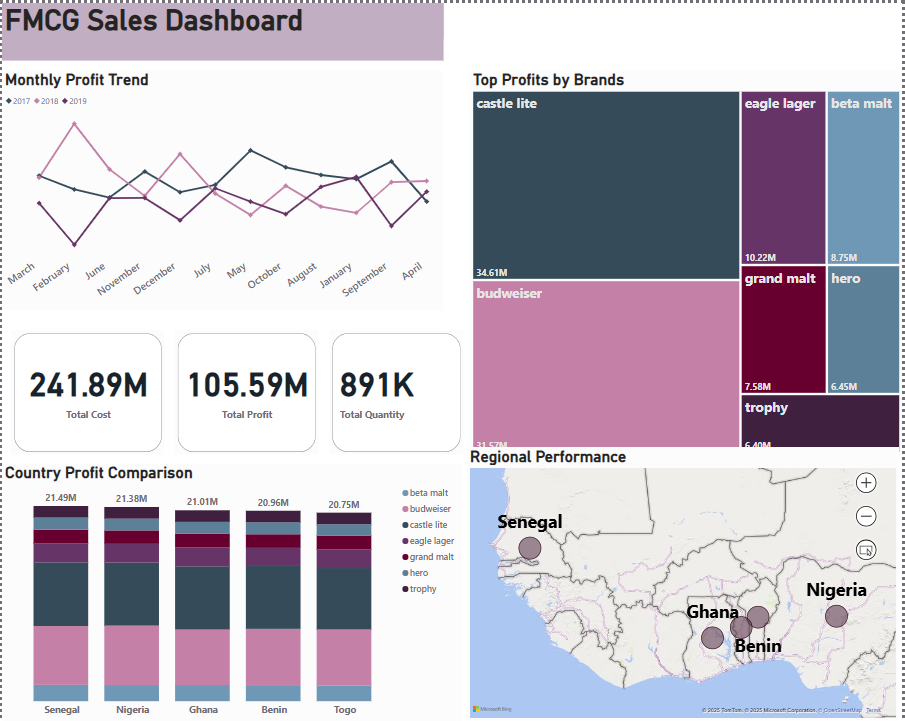

What the dashboard file says about the page in this screenshot:
{"tool":"powerbi","page":{"name":"Profit Analysis","canvas":[1500,1200],"ordinal":0},"visuals":[{"type":"lineChart","title":"Monthly Profit Trend","fields":{"Y":["Sum(public fmcg_analysis.PROFIT)"],"Category":["public fmcg_analysis.MONTHS"],"Series":["public fmcg_analysis.YEARS"]},"box":[0,112,736,400],"z":0},{"type":"columnChart","title":"Country Profit Comparison","fields":{"Category":["public fmcg_analysis.COUNTRIES"],"Y":["Sum(public fmcg_analysis.PROFIT)"],"Series":["public fmcg_analysis.BRANDS"]},"box":[0,768,768,432],"z":1000},{"type":"treemap","title":"Top Profits by Brands","fields":{"Group":["public fmcg_analysis.BRANDS"],"Values":["Sum(public fmcg_analysis.PROFIT)"]},"box":[780,0,720,744],"z":2000},{"type":"map","title":"Regional Performance","fields":{"Category":["public fmcg_analysis.COUNTRIES"],"Size":["Sum(public fmcg_analysis.QUANTITY)"]},"box":[776,740,720,456],"z":3000},{"type":"textbox","title":"FMCG Sales Dashboard","box":[0,0,768,96],"z":4000},{"type":"cardVisual","fields":{"Data":["Sum(public fmcg_analysis.PROFIT)"]},"box":[288,544,240,208],"z":5000},{"type":"cardVisual","fields":{"Data":["Sum(public fmcg_analysis.QUANTITY)"]},"box":[544,544,224,208],"z":6000},{"type":"cardVisual","fields":{"Data":["Sum(public fmcg_analysis.COST)"]},"box":[16,544,256,208],"z":7000}]}

Visuals, with their boxes in screenshot pixels (x1, y1, x2, y2), scaled from the page's 1500x1200 canvas onto the 905x721 screenshot:
"Monthly Profit Trend" lineChart: <bbox>0, 67, 444, 308</bbox>
"Country Profit Comparison" columnChart: <bbox>0, 461, 463, 720</bbox>
"Top Profits by Brands" treemap: <bbox>471, 0, 904, 447</bbox>
"Regional Performance" map: <bbox>468, 445, 903, 719</bbox>
"FMCG Sales Dashboard" textbox: <bbox>0, 0, 463, 58</bbox>
cardVisual - Sum(public fmcg_analysis.PROFIT): <bbox>174, 327, 319, 452</bbox>
cardVisual - Sum(public fmcg_analysis.QUANTITY): <bbox>328, 327, 463, 452</bbox>
cardVisual - Sum(public fmcg_analysis.COST): <bbox>10, 327, 164, 452</bbox>
